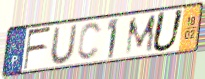1: (106, 17, 121, 61)
C: (76, 21, 103, 62)
F: (23, 25, 53, 71)
M: (124, 13, 158, 57)
U: (150, 8, 186, 54), (49, 23, 79, 65)
